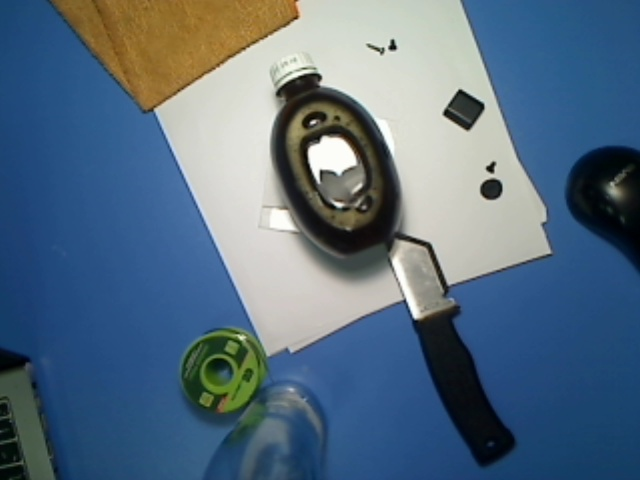plast_bottle: (263, 47, 404, 264)
